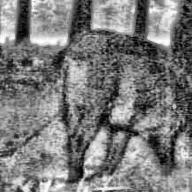boar: (52, 26, 191, 173)
